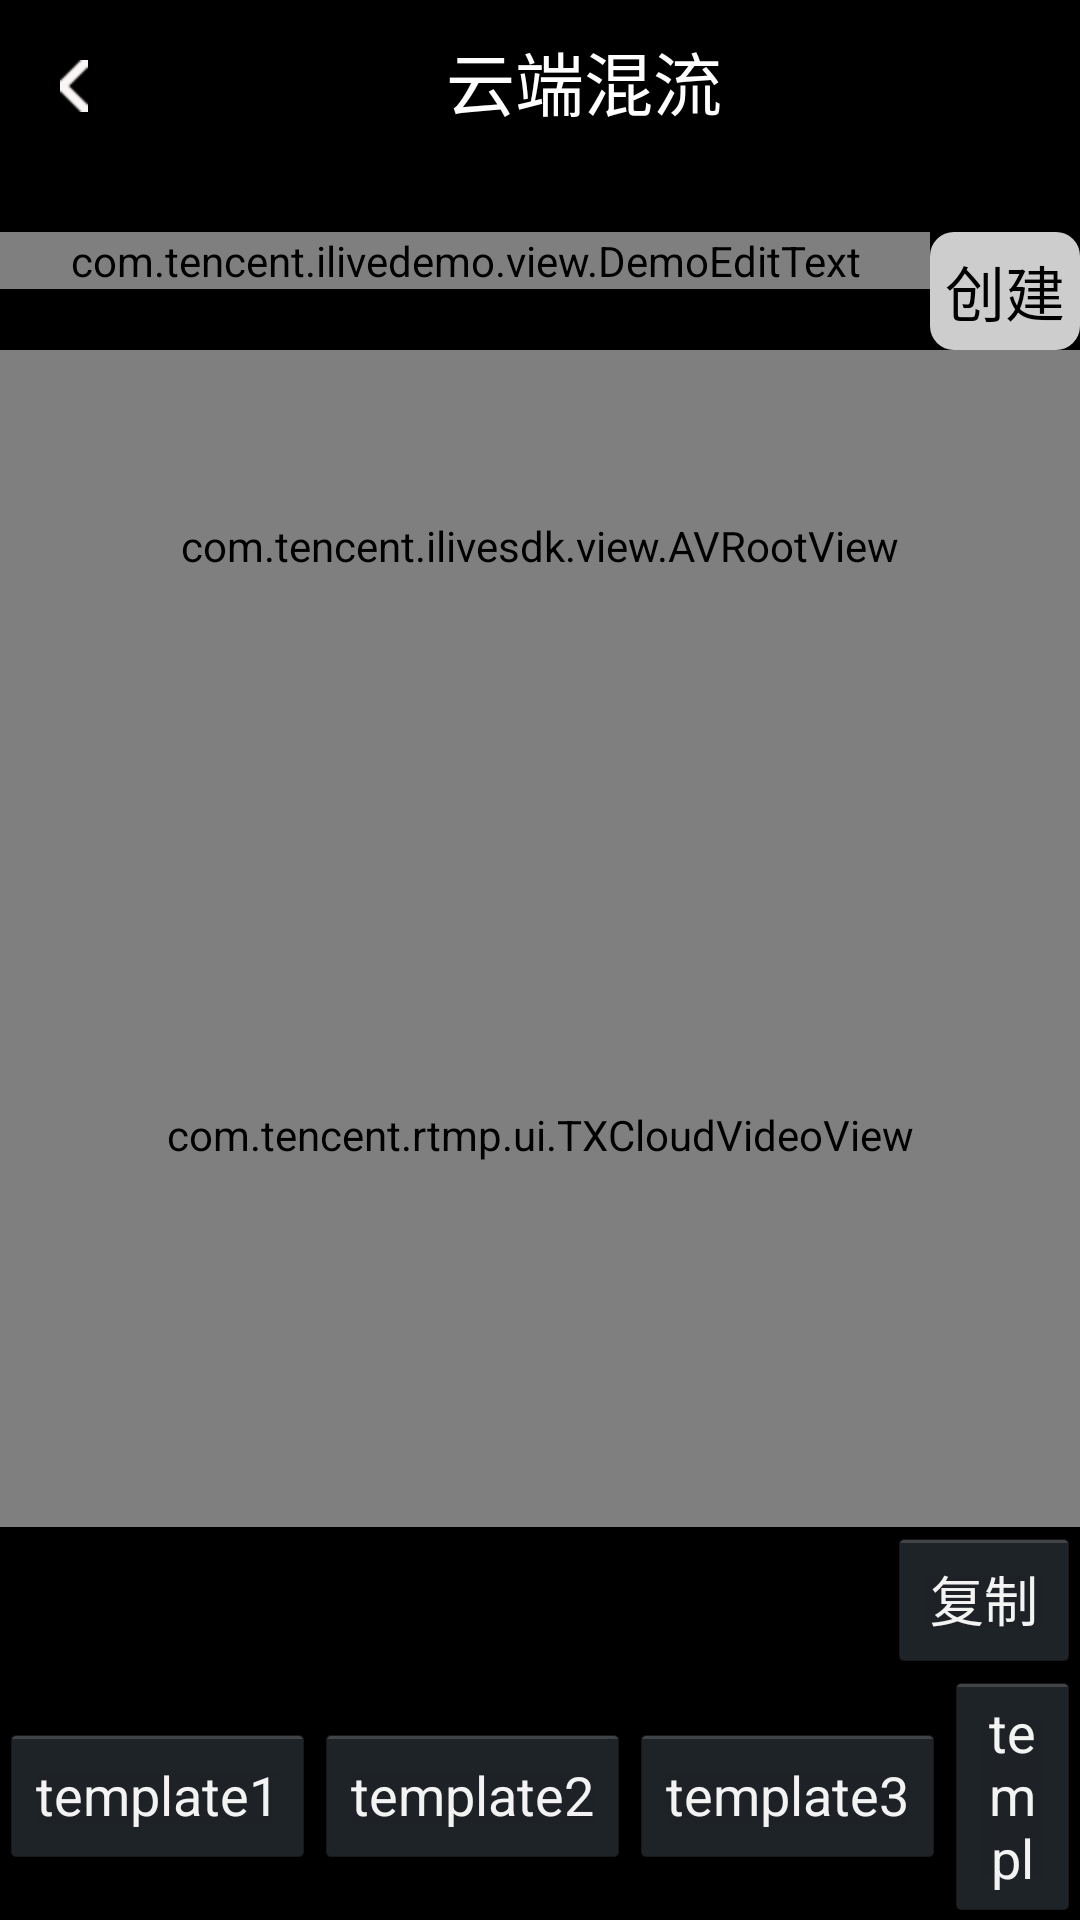

Locate icon controls on the screen. Image size 1080 × 1920, boxes as BBox(x1, y1, x2, y2).
left: BBox(60, 60, 88, 112)
